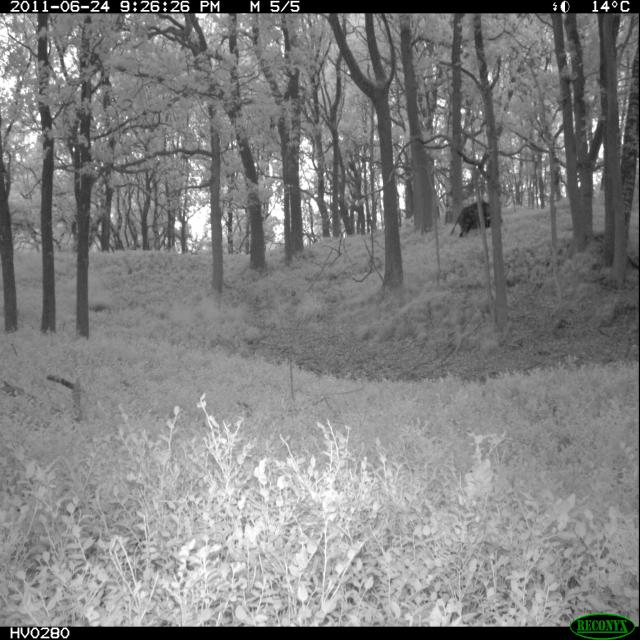boar: (441, 175, 519, 251)
